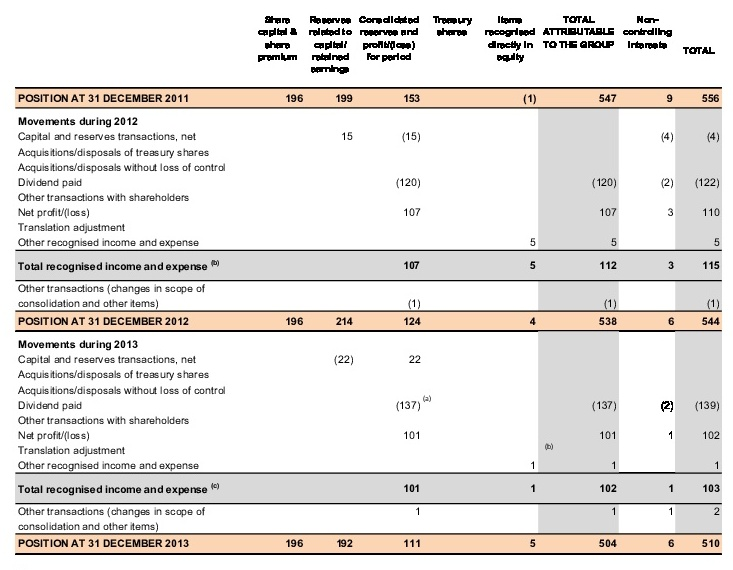table: (0, 0, 733, 570)
